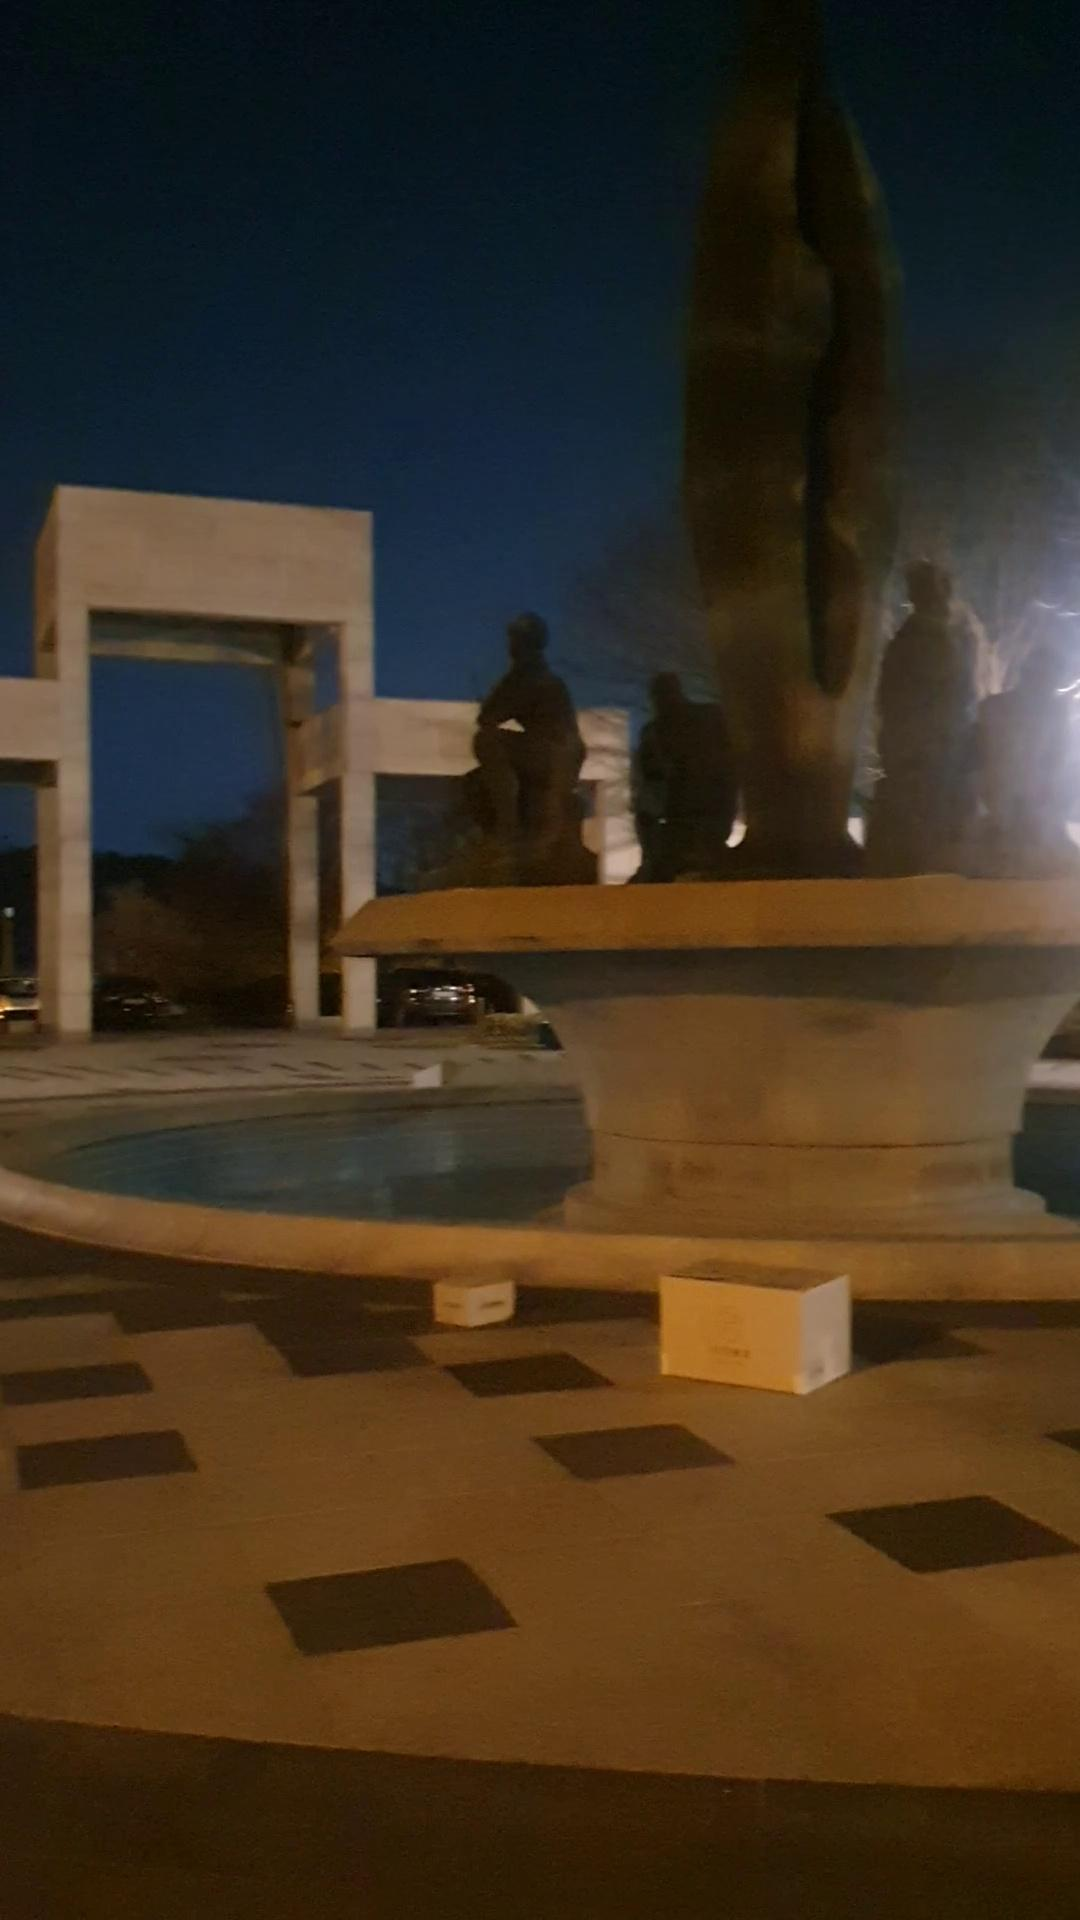Box: (655, 1247, 862, 1400), (423, 1270, 530, 1331)
